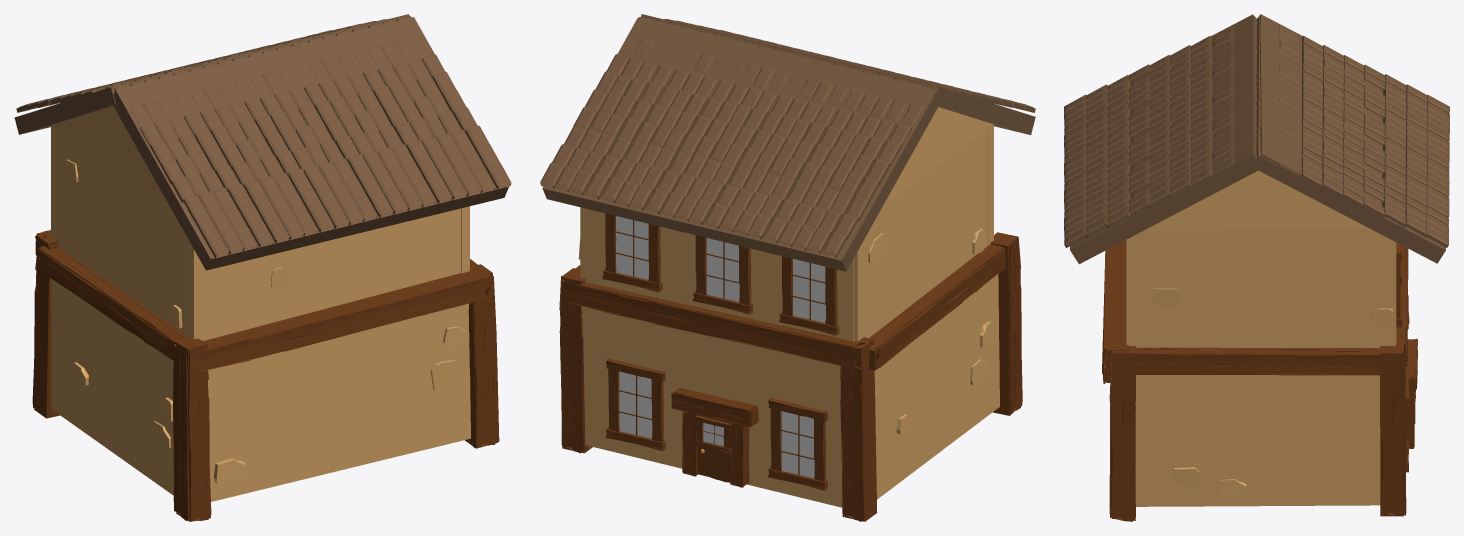
File: Shop7.fbx
3 renders of one model, left to right at view 1: azimuth 30°, elevation 25°; view 2: azimuth 150°, elevation 25°; view 3: azimuth 270°, elevation 25°, orthographic. The views are drawn at different scales.
Visible parts, largest first — view 1: Cube.4394, Cube.4398, Cube.4399, Cube.4395, Cube.4391, Cube.4500, Cube.4509, Cube.4508, Cube.4499, Cube.4503, Cube.4497, Cube.4392 (+7 smaller); view 2: Cube.4393, Cube.4392, Cube.4395, Cube.4399, Cube.4397, Cube.4480, Cube.4488, Cube.4484, Cube.4509, Cube.4391, Cube.4497, Cube.4507 (+38 smaller); view 3: Cube.4396, Cube.4400, Cube.4391, Cube.4392, Cube.4510, Cube.4494, Cube.4505, Cube.4490, Cube.4499, Cube.4492, Cube.4397, Cube.4487 (+5 smaller).
Part boxes in pixels (x1,y1,x2,y2): Cube.4394: (208, 303, 470, 501); Cube.4398: (188, 208, 460, 340); Cube.4399: (51, 124, 202, 340); Cube.4395: (51, 279, 173, 495); Cube.4391: (113, 17, 508, 270); Cube.4500: (192, 277, 491, 371); Cube.4509: (55, 106, 168, 204); Cube.4508: (188, 346, 211, 521); Cube.4499: (198, 267, 491, 354); Cube.4503: (474, 273, 497, 446); Cube.4497: (37, 250, 168, 352); Cube.4392: (14, 14, 409, 134); Cube.4393: (581, 306, 842, 507); Cube.4392: (542, 17, 941, 271); Cube.4395: (874, 274, 999, 499); Cube.4399: (854, 124, 993, 341); Cube.4397: (580, 207, 854, 341); Cube.4480: (562, 283, 859, 368); Cube.4488: (560, 279, 584, 453); Cube.4484: (841, 366, 864, 521); Cube.4509: (882, 107, 992, 207); Cube.4391: (641, 14, 1035, 135); Cube.4497: (876, 257, 998, 369); Cube.4507: (1008, 237, 1022, 413); Cube.4396: (1135, 375, 1380, 506); Cube.4400: (1126, 229, 1386, 347); Cube.4391: (1070, 14, 1261, 264); Cube.4392: (1257, 14, 1445, 263); Cube.4510: (1144, 170, 1370, 230); Cube.4494: (1136, 354, 1379, 374); Cube.4505: (1111, 354, 1135, 521); Cube.4490: (1381, 352, 1406, 516); Cube.4499: (1106, 240, 1129, 368); Cube.4492: (1136, 347, 1379, 355); Cube.4397: (1386, 237, 1396, 345); Cube.4487: (1380, 343, 1403, 516).
Bounding box in the file's own units: 1389 × 1578 × 1523.
